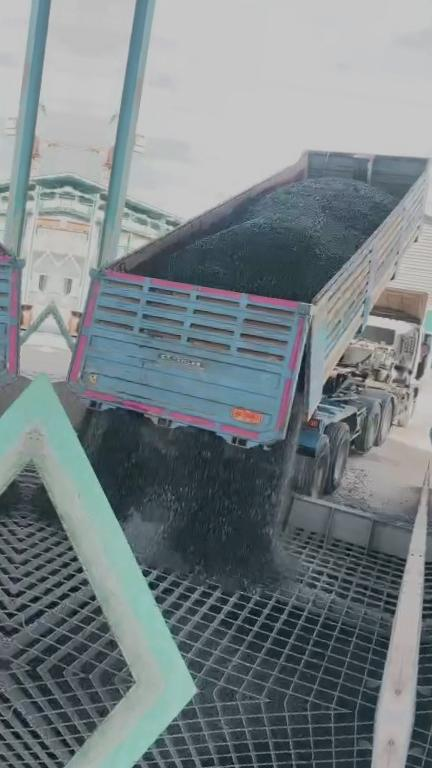gravel: (79, 393, 302, 591), (158, 177, 396, 301)
